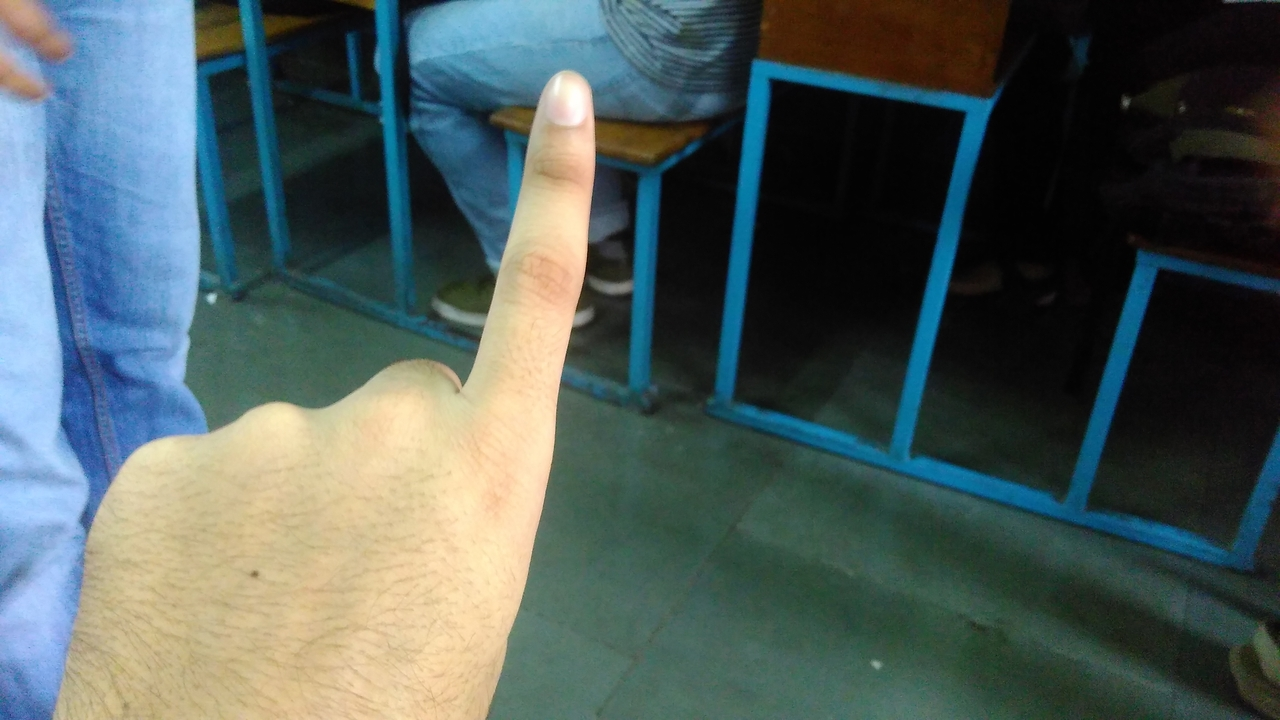fingertip: (530, 68, 598, 136)
